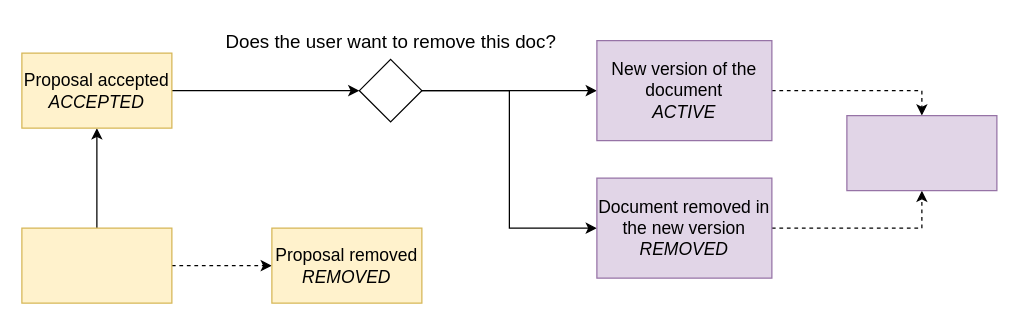
Some shapes in this 1019 by 325 pixel diagram are drawn without their labels. Each missing label, with the box of its shape:
Proposal created ACTIVE: (21, 227, 172, 303)
The doc version invalidated INVALID: (846, 114, 997, 191)
